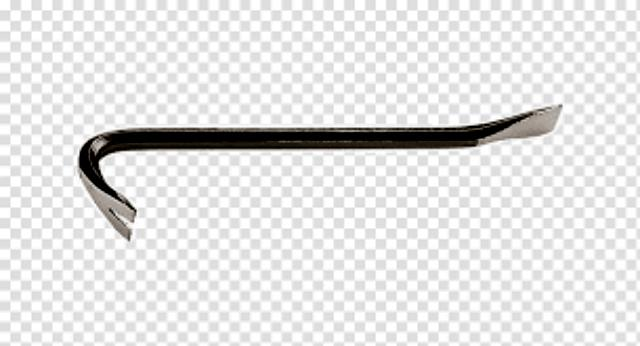crow bar: (72, 98, 564, 244)
